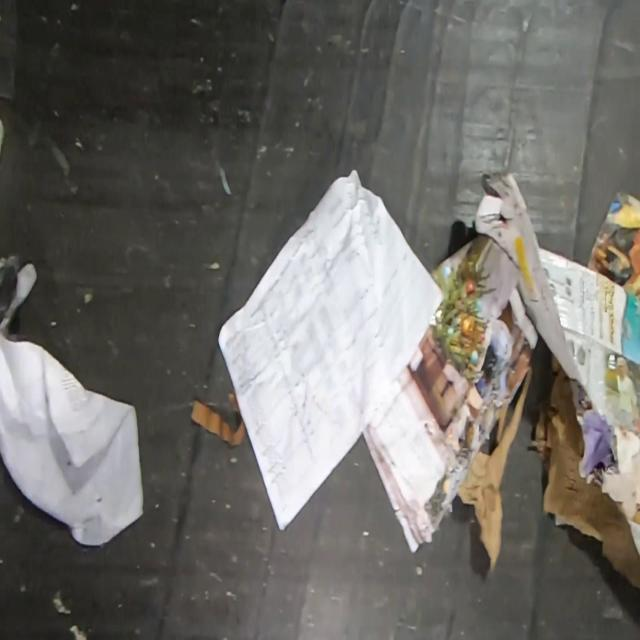cardboard: (473, 170, 640, 438), (528, 352, 640, 594)
